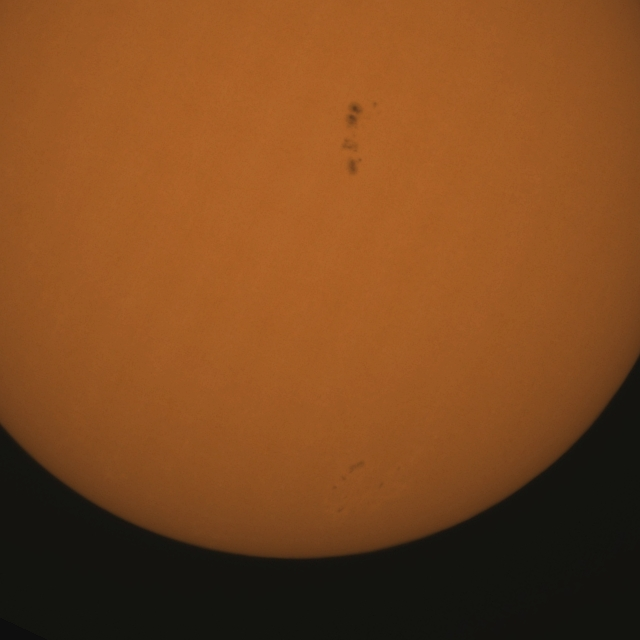sunspot: (340, 136, 363, 179), (334, 459, 366, 489), (344, 101, 366, 133)
